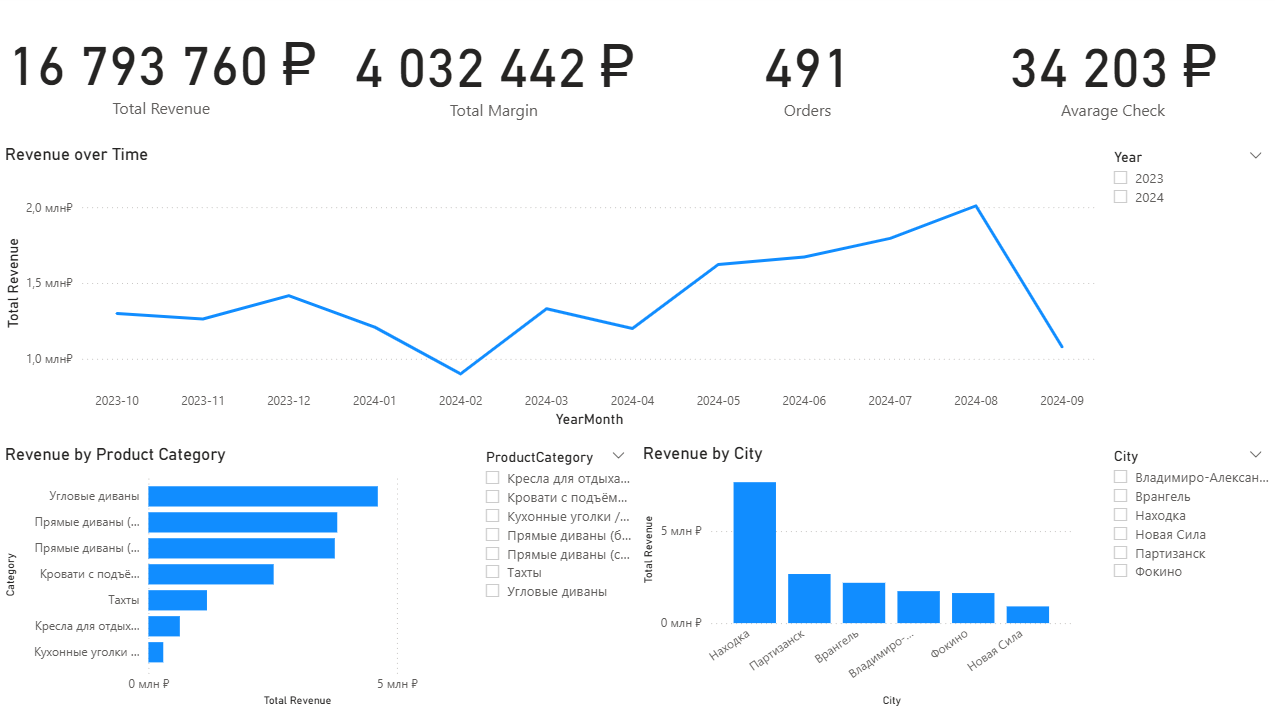

What the dashboard file says about the page in this screenshot:
{"tool":"powerbi","page":{"name":"Обзор продаж","canvas":[1280,720],"ordinal":0},"visuals":[{"type":"card","fields":{"Values":["Меры.Revenue"]},"box":[0,0,323.9,149.6],"z":0},{"type":"card","fields":{"Values":["Меры.Total Margin"]},"box":[323.9,0,343.1,153],"z":1000},{"type":"card","fields":{"Values":["Меры.Orders"]},"box":[667,0,287.9,153],"z":2000},{"type":"card","fields":{"Values":["Меры.Avarage Check"]},"box":[954.9,0,325.1,153],"z":3000},{"type":"lineChart","title":"Revenue over Time","fields":{"Category":["Calendar.YearMonth"],"Y":["Меры.Revenue"]},"box":[0,149.6,1105.7,289.1],"z":4000},{"type":"barChart","title":"Revenue by Product Category","fields":{"Category":["sales.Category"],"Y":["Меры.Revenue"]},"box":[0,450.4,474.4,268.2],"z":5000},{"type":"columnChart","title":"Revenue by City","fields":{"Category":["sales.City"],"Y":["Меры.Revenue"]},"box":[640,449.9,440.9,268.8],"z":6000},{"type":"slicer","fields":{"Values":["Calendar.Year"]},"box":[1105.7,149.6,174.3,300.3],"z":7000},{"type":"slicer","fields":{"Values":["Products.ProductCategory"]},"box":[474.4,450.4,165.1,267.2],"z":8000},{"type":"slicer","fields":{"Values":["Cities.City"]},"box":[1105.7,449.9,174.3,268.8],"z":9000}]}

Visuals, with their boxes in screenshot pixels (x1, y1, x2, y2), scaled from the page's 1280x720 canvas onto the 1275x711 screenshot:
card - Меры.Revenue: [0, 0, 323, 148]
card - Меры.Total Margin: [323, 0, 664, 151]
card - Меры.Orders: [664, 0, 951, 151]
card - Меры.Avarage Check: [951, 0, 1274, 151]
"Revenue over Time" lineChart: [0, 148, 1101, 433]
"Revenue by Product Category" barChart: [0, 445, 473, 710]
"Revenue by City" columnChart: [638, 444, 1077, 710]
slicer - Calendar.Year: [1101, 148, 1274, 444]
slicer - Products.ProductCategory: [473, 445, 637, 709]
slicer - Cities.City: [1101, 444, 1274, 710]
